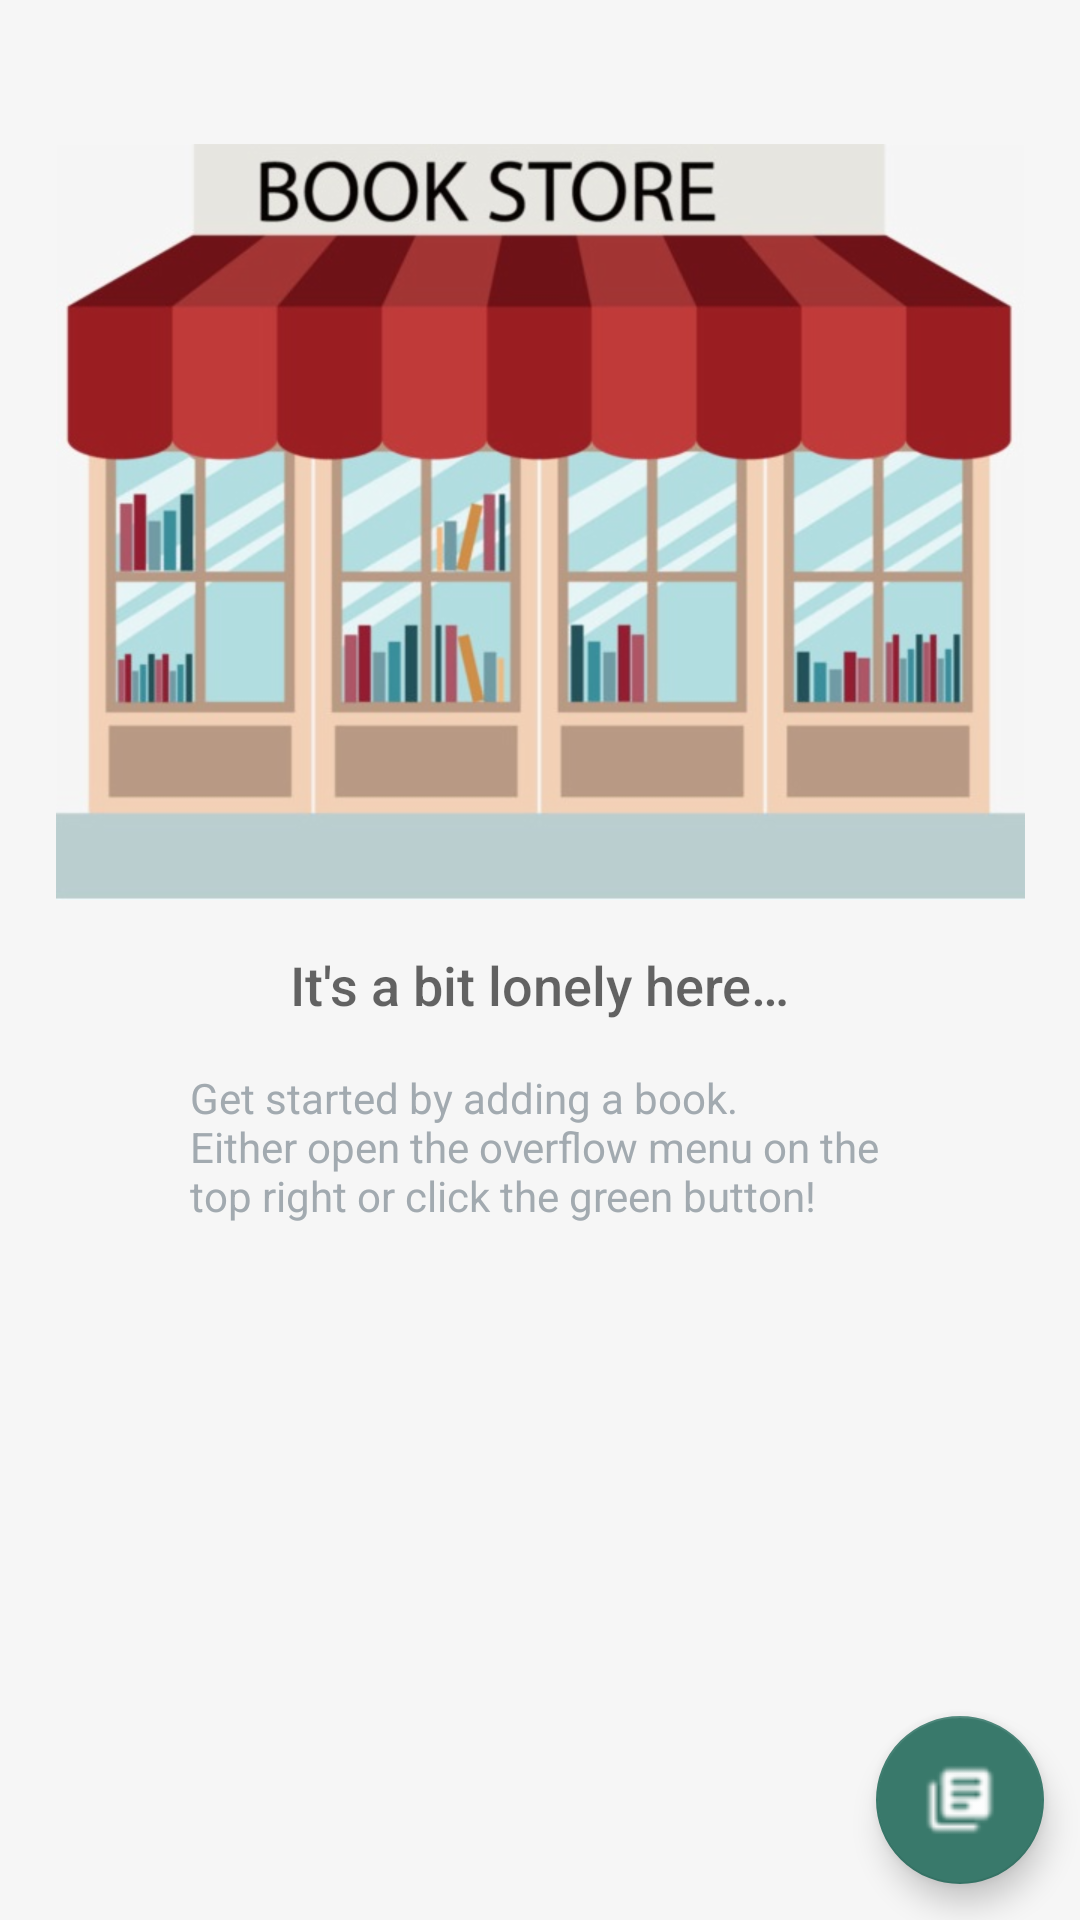

Icons on this 1080px x 1920px Android screen, each with its box as (x1, y1, x2, y2):
book: (876, 1716, 1044, 1884)
